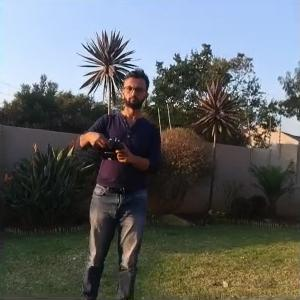follow: (67, 60, 164, 299)
